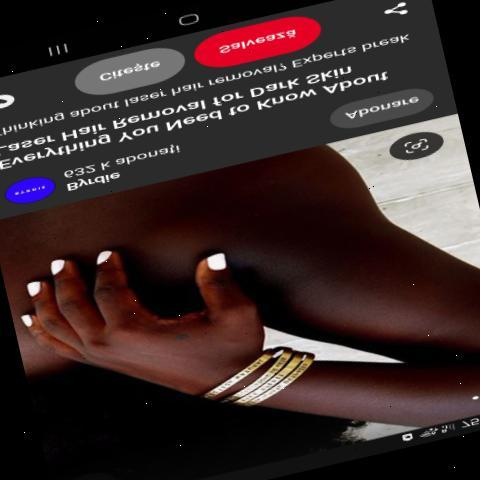Hands: (22, 224, 272, 410)
